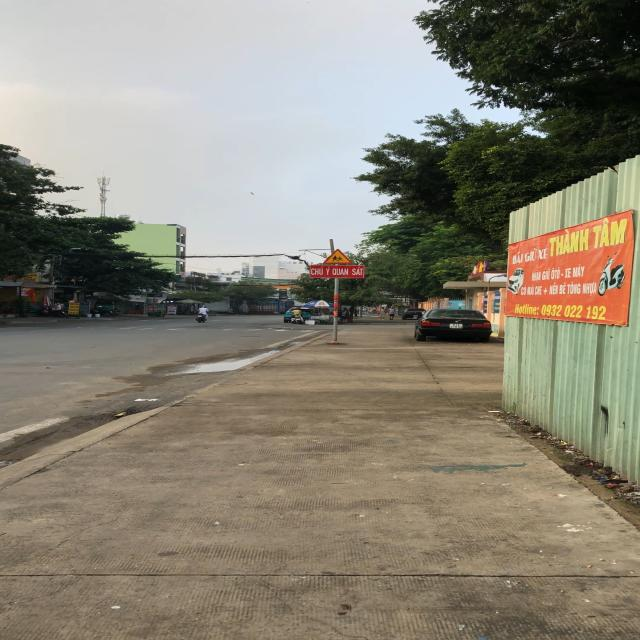Bien bao tre em: (322, 248, 354, 265)
